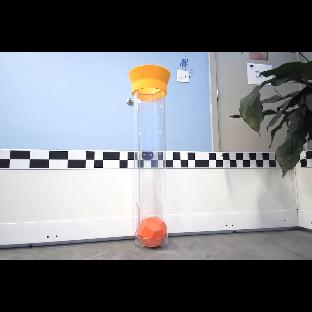Loader: (129, 64, 171, 248)
V5_RED: (136, 217, 168, 247)
